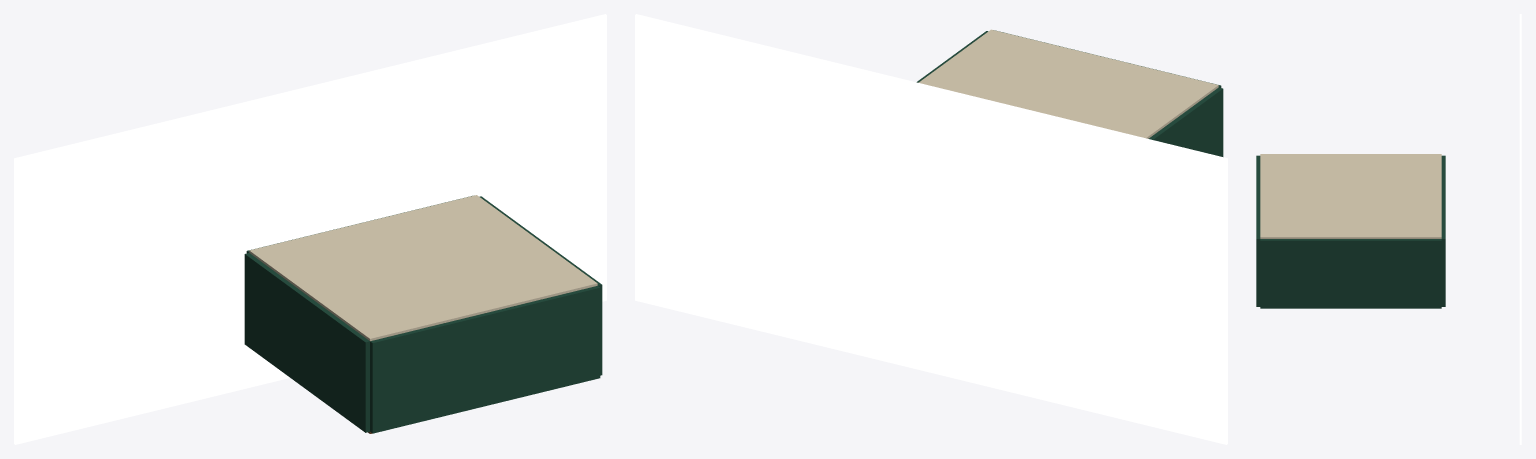
Rendered from interior.glb.
The picture shows the model from 3 angles, left to right: view 1: azimuth 30°, elevation 25°; view 2: azimuth 150°, elevation 25°; view 3: azimuth 270°, elevation 25°; orthographic projection. The views are drawn at different scales.
Parts seen in each view (by area): view 1: i_sky_plane, i_wall_green, i_ceiling; view 2: i_sky_plane, i_ceiling, i_wall_green; view 3: i_ceiling, i_wall_green, i_sky_plane.
Part boxes in pixels (<box>): i_sky_plane: <box>14,14,606,444</box>; i_wall_green: <box>244,195,602,433</box>; i_ceiling: <box>249,195,597,341</box>; i_sky_plane: <box>635,14,1227,444</box>; i_ceiling: <box>918,29,1218,138</box>; i_wall_green: <box>916,30,1223,156</box>; i_ceiling: <box>1260,154,1441,238</box>; i_wall_green: <box>1256,155,1445,308</box>; i_sky_plane: <box>1519,14,1521,444</box>.
Bounding box in the file's own units: 26 × 12 × 13.45.
19 materials, 1 textured.
